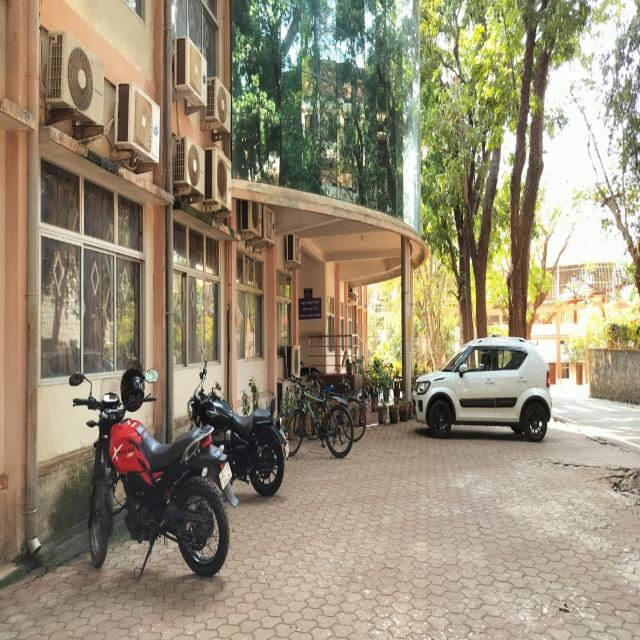bicycle ahead at: (280, 375, 354, 460)
car ahead at: (412, 330, 554, 450)
motorcycle ahead at: (61, 361, 237, 594), (183, 361, 290, 501)
